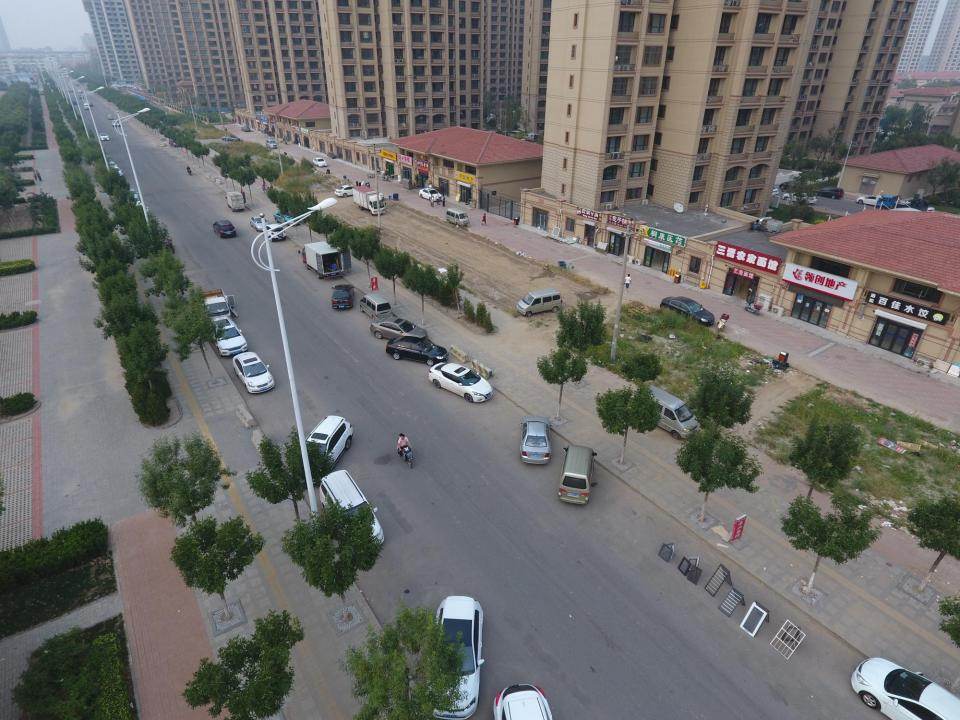car: (423, 594, 485, 720), (849, 655, 960, 719), (318, 469, 385, 555), (288, 415, 354, 487), (428, 361, 494, 403), (385, 336, 449, 366), (232, 352, 274, 394), (660, 296, 716, 327), (519, 414, 553, 465), (370, 316, 429, 344), (209, 316, 248, 357), (148, 233, 175, 257), (330, 284, 355, 308), (901, 202, 935, 217), (781, 191, 817, 205), (855, 195, 895, 207), (745, 183, 779, 197), (212, 219, 237, 238), (273, 209, 302, 225), (262, 224, 286, 242), (335, 184, 365, 198), (812, 186, 844, 199), (130, 203, 149, 222), (418, 187, 442, 202), (778, 180, 808, 192), (249, 215, 270, 232), (124, 188, 140, 199), (108, 166, 124, 177), (312, 157, 328, 167), (221, 134, 240, 142), (127, 197, 141, 207), (99, 154, 113, 164), (104, 162, 119, 170), (494, 130, 510, 137), (98, 133, 109, 140), (111, 120, 120, 127), (241, 126, 251, 132), (106, 114, 114, 119), (87, 100, 93, 106), (66, 88, 74, 92), (79, 94, 84, 99), (77, 88, 82, 92)
truck: (195, 287, 233, 328), (876, 194, 928, 218), (352, 186, 386, 216), (225, 191, 245, 211), (70, 97, 78, 104)
van: (635, 384, 699, 439), (557, 444, 598, 504), (297, 241, 352, 279), (515, 287, 562, 317), (359, 292, 393, 322), (445, 207, 470, 228), (507, 130, 523, 139), (265, 138, 278, 149), (524, 133, 539, 142), (83, 103, 90, 109), (40, 89, 44, 94)
